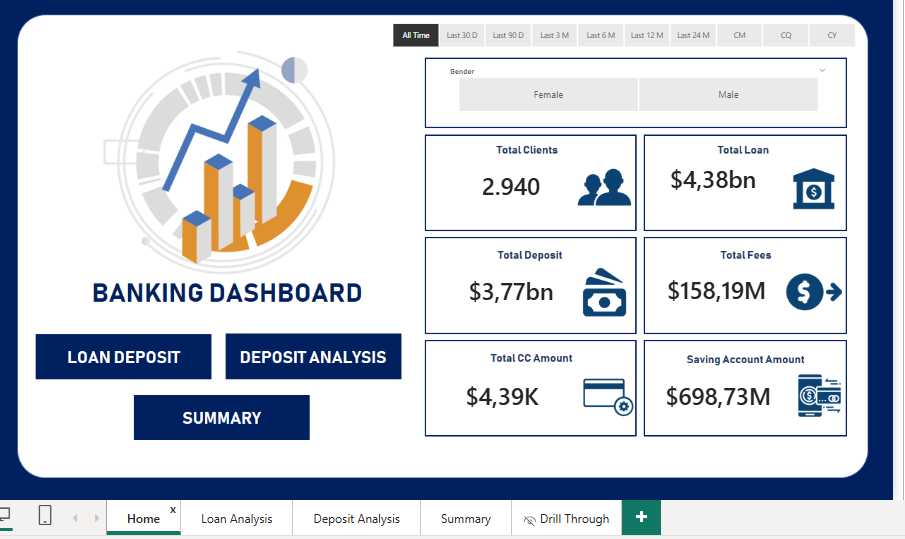

What the dashboard file says about the page in this screenshot:
{"tool":"powerbi","page":{"name":"Home 2","canvas":[1280,720],"ordinal":1},"visuals":[{"type":"card","fields":{"Values":["CountNonNull(banking_case customer.Name)"]},"box":[580.5,275.2,213.6,74.7],"z":0},{"type":"slicer","fields":{"Values":["banking_case customer.GenderId"]},"box":[629.8,145.2,614.3,81],"z":1000},{"type":"card","fields":{"Values":["banking_case customer.Total Loan"]},"box":[951.4,275.2,214.9,74.7],"z":2000},{"type":"card","fields":{"Values":["banking_case customer.Total Deposit"]},"box":[581.8,419.3,212.3,74.7],"z":3000},{"type":"slicer","fields":{"Values":["banking_case customer.Year of Joining"]},"box":[671.4,83.3,560.7,34.5],"z":4000},{"type":"card","fields":{"Values":["Sum(banking_case customer.Saving Accounts)"]},"box":[580.5,560.9,213.6,74.7],"z":5000},{"type":"card","fields":{"Values":["Sum(banking_case customer.Business Lending)"]},"box":[951.4,559.5,213.6,74.7],"z":6000},{"type":"card","fields":{"Values":["Sum(banking_case customer.Checking Accounts)"]},"box":[951.4,418,213.6,76],"z":7000},{"type":"actionButton","box":[191.5,514.3,175.7,55.4],"z":8000},{"type":"actionButton","box":[348.2,31.7,221.6,39.6],"z":9000},{"type":"actionButton","box":[91.8,417.8,172.5,58.6],"z":10000},{"type":"actionButton","box":[297.5,419.4,185.2,57],"z":11000}]}

Visuals, with their boxes on the page's 1280x720 design canvas (x1, y1, x2, y2). These are canvas units, not pixel positions in the 905x539 screenshot, which may show the page scaled, cropped or inside an application window:
card - CountNonNull(banking_case customer.Name): box=[580, 275, 794, 350]
slicer - banking_case customer.GenderId: box=[630, 145, 1244, 226]
card - banking_case customer.Total Loan: box=[951, 275, 1166, 350]
card - banking_case customer.Total Deposit: box=[582, 419, 794, 494]
slicer - banking_case customer.Year of Joining: box=[671, 83, 1232, 118]
card - Sum(banking_case customer.Saving Accounts): box=[580, 561, 794, 636]
card - Sum(banking_case customer.Business Lending): box=[951, 560, 1165, 634]
card - Sum(banking_case customer.Checking Accounts): box=[951, 418, 1165, 494]
actionButton: box=[192, 514, 367, 570]
actionButton: box=[348, 32, 570, 71]
actionButton: box=[92, 418, 264, 476]
actionButton: box=[298, 419, 483, 476]
